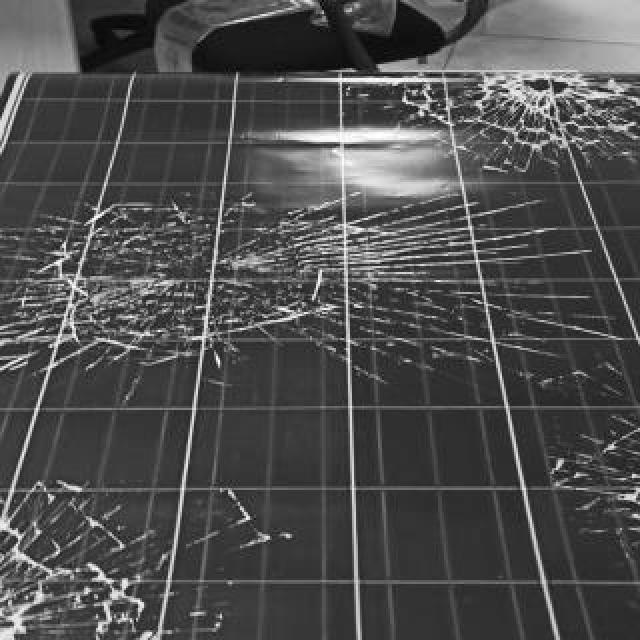Physical-damage: (316, 212, 400, 295), (483, 72, 595, 125), (0, 522, 46, 640), (596, 444, 640, 532), (76, 575, 144, 629), (15, 285, 61, 358), (55, 271, 95, 342), (409, 216, 459, 260), (400, 79, 442, 126), (93, 198, 147, 230), (226, 248, 270, 284), (124, 272, 170, 304), (268, 296, 311, 330)
